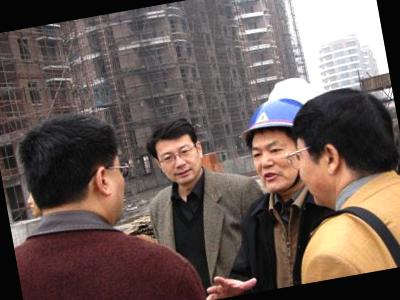no_helmet: (6, 99, 140, 240), (289, 75, 400, 212), (142, 107, 210, 190)
